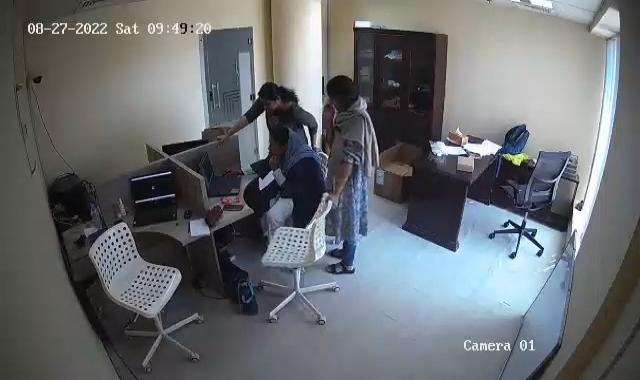no_hairnet: (322, 69, 358, 109), (253, 78, 287, 115), (268, 126, 300, 164)
